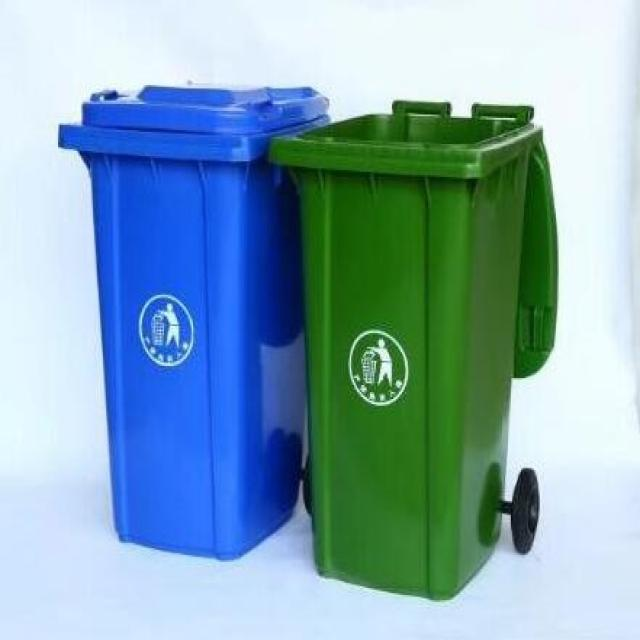garbage_bin: (266, 99, 557, 600), (55, 78, 330, 559)
